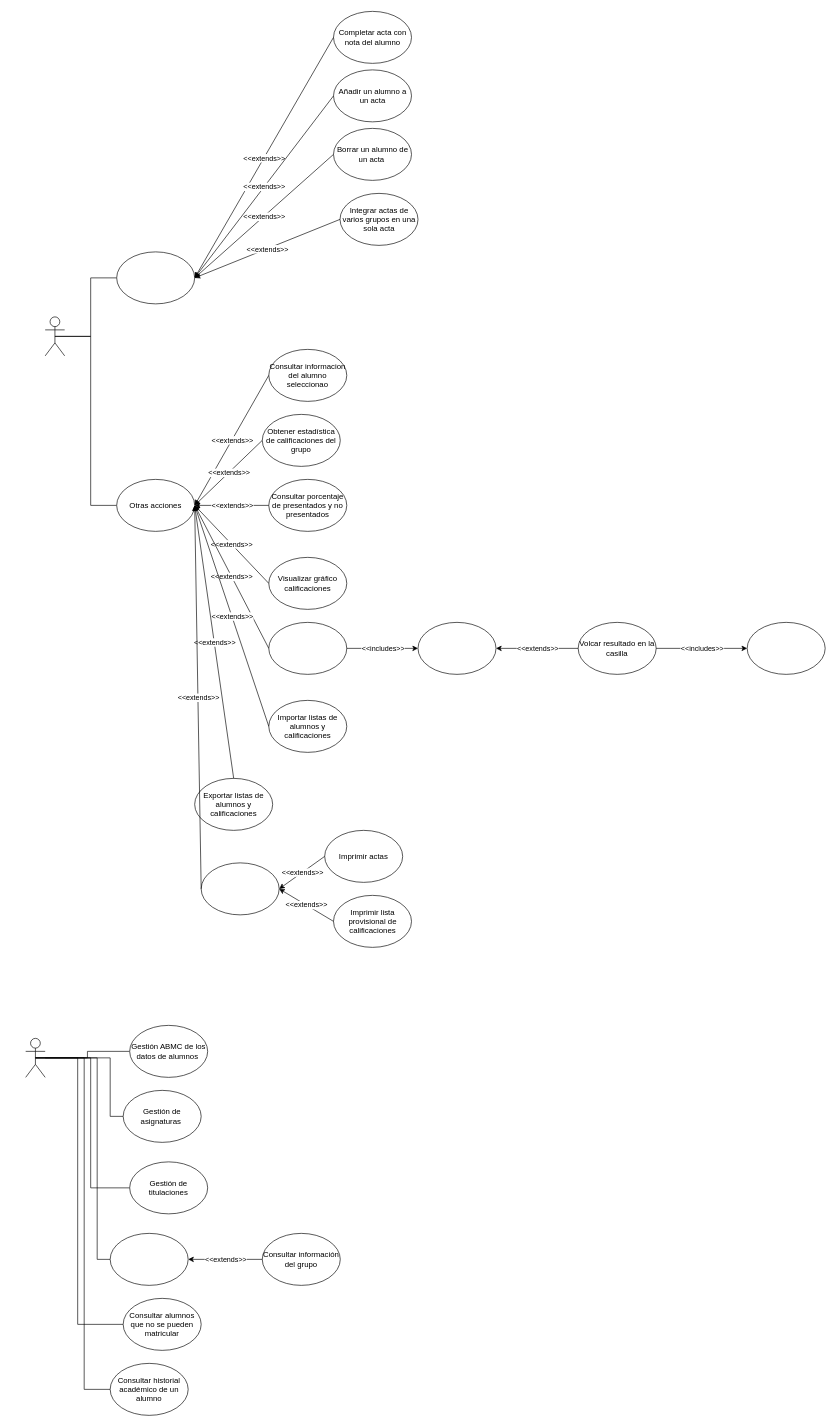
Image size: 837x1427. Some labels were removed from this diagram. The centre of each missing label's shape, as x and y in pixels:
Administrador: pixel 35 1057
Gestión de grupos: pixel 149 1259
Imprimir: pixel 240 888
Introducir notas: pixel 307 648
Profesor: pixel 55 336
Recibir actas: pixel 155 277
Redondear cifras: pixel 786 648
Usar calculadora: pixel 456 648
